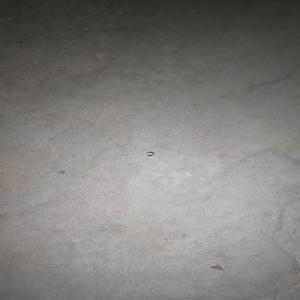Nut: (145, 151, 155, 157)
